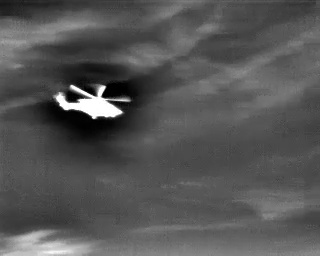HELICOPTER: (52, 76, 136, 126)
